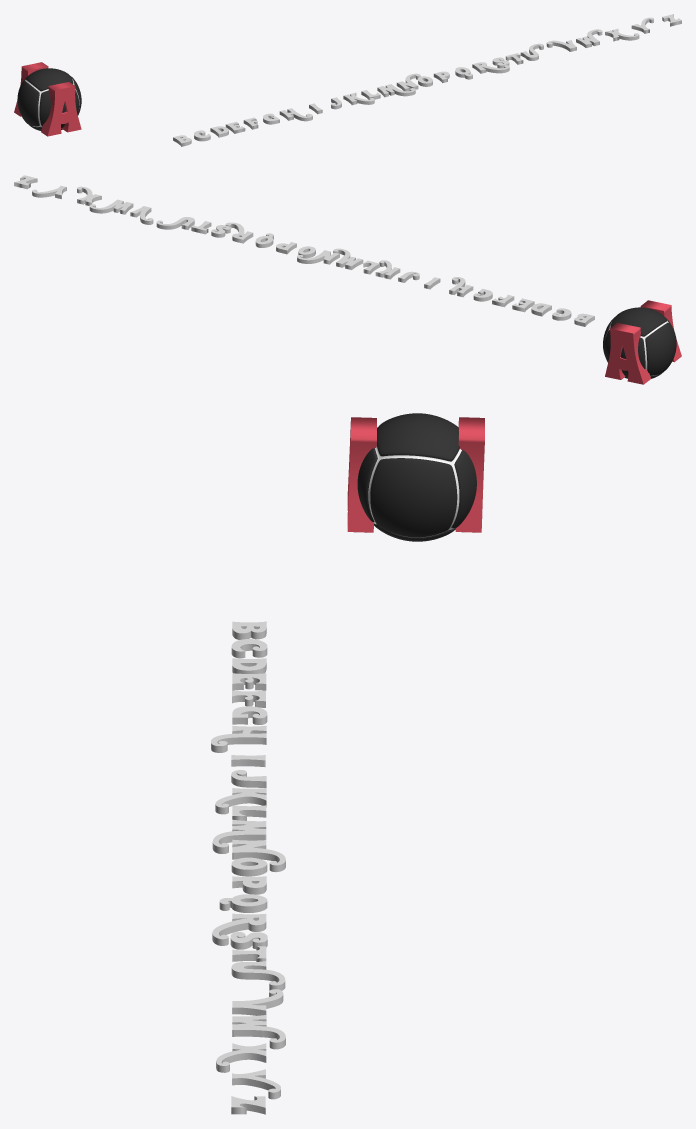
3 views of the same model, one above another, from view 1: azimuth 30°, elevation 25°; view 2: azimuth 150°, elevation 25°; view 3: azimuth 270°, elevation 25° (orthographic). The views are drawn at different scales.
Parts seen in each view (by area): view 1: Cube.001, A, A.001, M, W, R, H, X, N, K, U, V; view 2: Cube.001, A.001, A, W, M, N, U; view 3: Cube.001, A, A.001, W, M, N.
Boxes of the visible parts, left/top/right/bottom form: Cube.001: left=17, top=68, right=81, bottom=130; A: left=41, top=82, right=81, bottom=136; A.001: left=14, top=62, right=48, bottom=116; M: left=377, top=84, right=415, bottom=97; W: left=576, top=29, right=602, bottom=47; R: left=472, top=62, right=509, bottom=73; H: left=279, top=108, right=312, bottom=121; X: left=605, top=28, right=639, bottom=41; N: left=396, top=73, right=420, bottom=91; K: left=343, top=92, right=374, bottom=105; U: left=520, top=43, right=543, bottom=60; V: left=546, top=40, right=576, bottom=51; Cube.001: left=603, top=307, right=676, bottom=378; A.001: left=605, top=323, right=650, bottom=384; A: left=640, top=300, right=681, bottom=362; W: left=89, top=199, right=133, bottom=214; M: left=333, top=248, right=363, bottom=269; N: left=297, top=250, right=339, bottom=264; U: left=156, top=217, right=194, bottom=229; Cube.001: left=357, top=413, right=476, bottom=541; A: left=347, top=417, right=376, bottom=532; A.001: left=455, top=417, right=484, bottom=532; W: left=232, top=1015, right=285, bottom=1049; M: left=212, top=819, right=266, bottom=853; N: left=232, top=839, right=285, bottom=872.
Bounding box in the file's own units: 1884 × 184 × 364.
